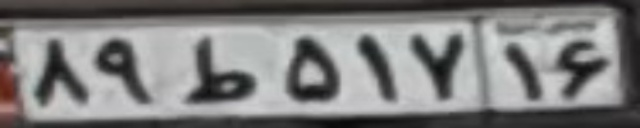1: (361, 33, 396, 101), (505, 39, 542, 100)
5: (284, 33, 342, 98)
6: (559, 37, 611, 97)
7: (412, 28, 467, 102)
8: (39, 35, 87, 103)
9: (97, 36, 150, 104)
taa: (185, 37, 259, 101)
